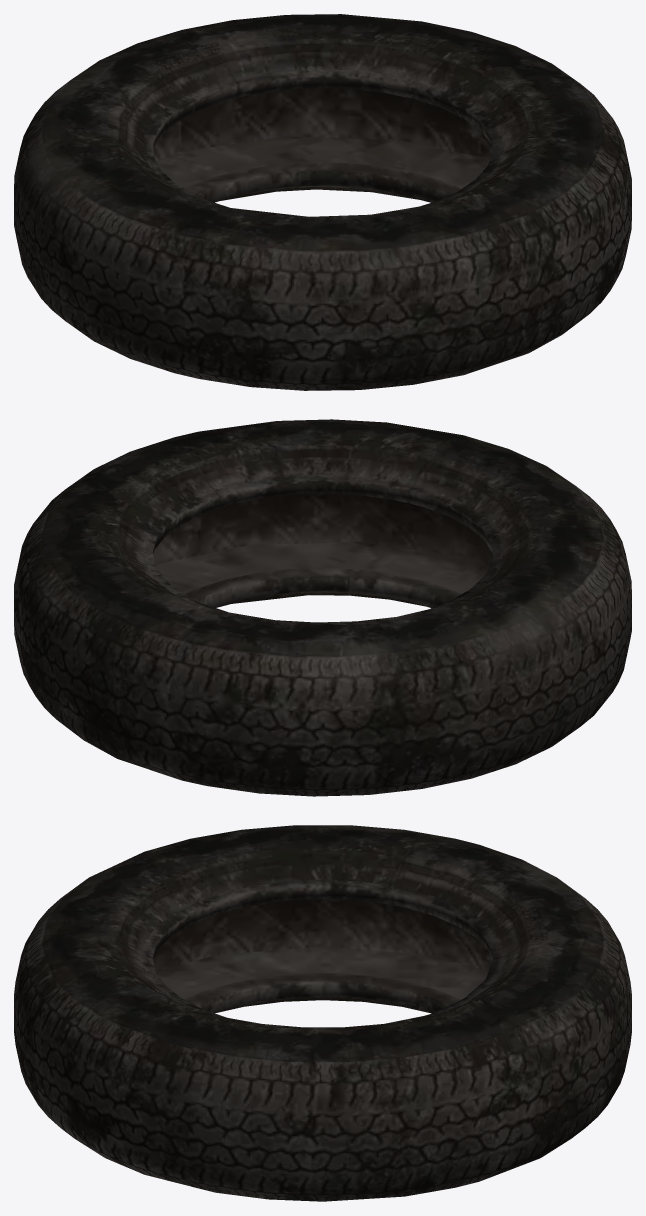
File: old-tyre.glb
The picture shows the model from 3 angles, top to bottom: view 1: azimuth 30°, elevation 25°; view 2: azimuth 150°, elevation 25°; view 3: azimuth 270°, elevation 25°; orthographic projection.
Parts seen in each view (by area): view 1: old_tyre; view 2: old_tyre; view 3: old_tyre.
Part boxes in pixels (x1,y1,x2,y2): old_tyre: (14,14,631,390); old_tyre: (14,419,631,796); old_tyre: (14,825,631,1201).
Size of the model in its own units: 0.6 by 0.165 by 0.6.
Materials: 1 (1 with a texture image).
